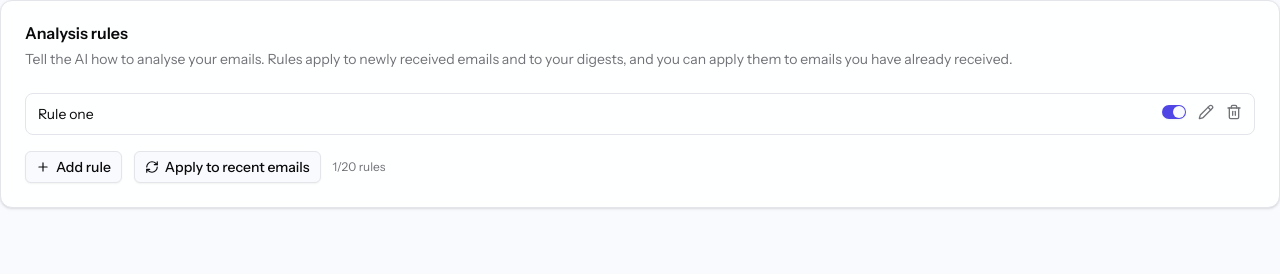
Test: AnalysisRulesSettings › deletes a rule
What coordinates should you click on to do the following:
click the button named "Delete rule"
I would click on:
 (1234, 112)
Its box is [1226,104,1242,120].
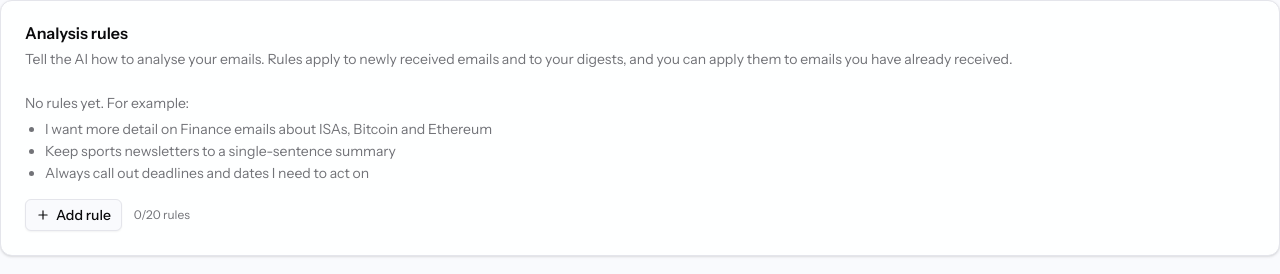
Check: the text "Rule one" is gone
